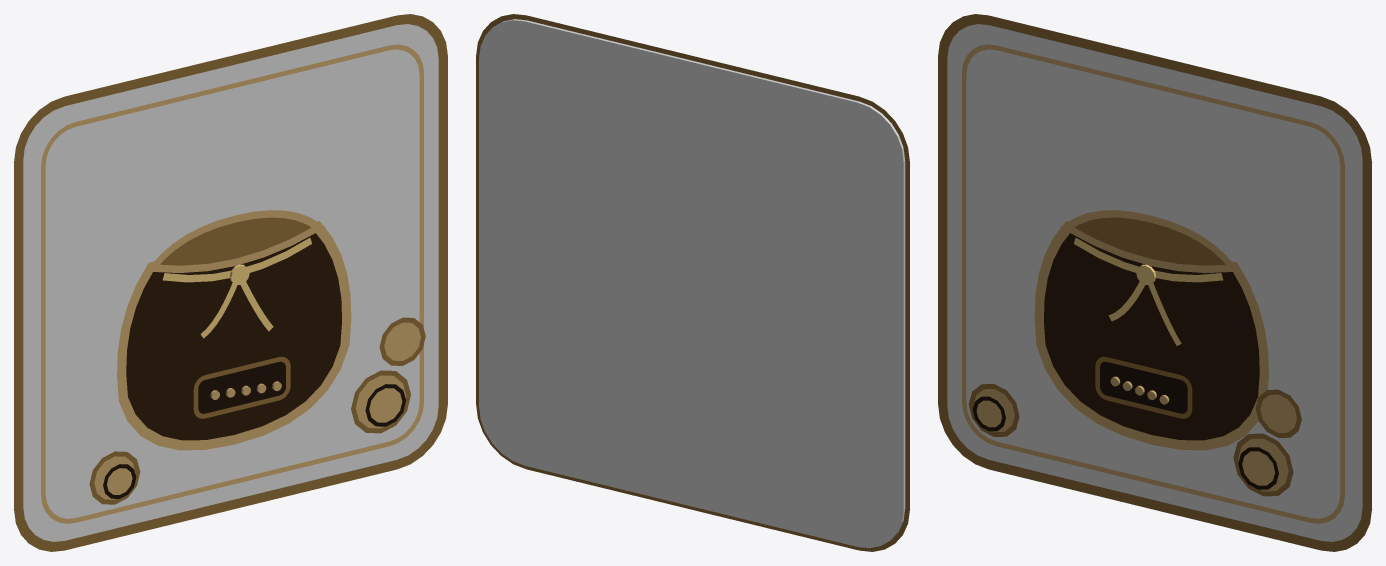
The model's file is obj-koshel-dirhemov.glb.
3 renders of one model, left to right at view 1: azimuth 30°, elevation 25°; view 2: azimuth 150°, elevation 25°; view 3: azimuth 330°, elevation 25°, orthographic.
Visible parts, largest first — view 1: obj-koshel-dirhemov; view 2: obj-koshel-dirhemov; view 3: obj-koshel-dirhemov.
Boxes of the visible parts, box(x1,y1,x2,y2) form: obj-koshel-dirhemov: box(14, 14, 447, 551); obj-koshel-dirhemov: box(476, 14, 909, 551); obj-koshel-dirhemov: box(938, 14, 1371, 551).
Bounding box in the file's own units: 0.3917 × 0.3917 × 0.0451.
